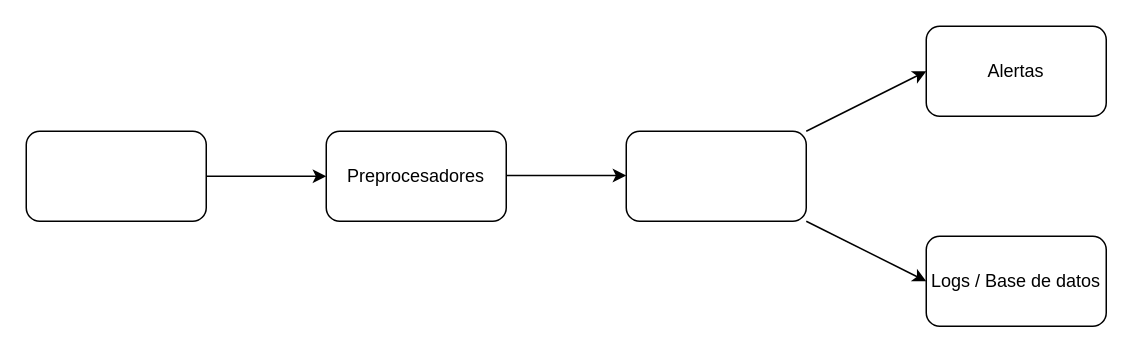
The diagram is 1133 pixels wide and 353 high, and some of its shapes have lost their labels. The box of each missing label's shape, as (x1, y1, x2, y2) in pixels:
Motor de detección: (625, 130, 806, 221)
Tráfico de red: (25, 130, 206, 221)
